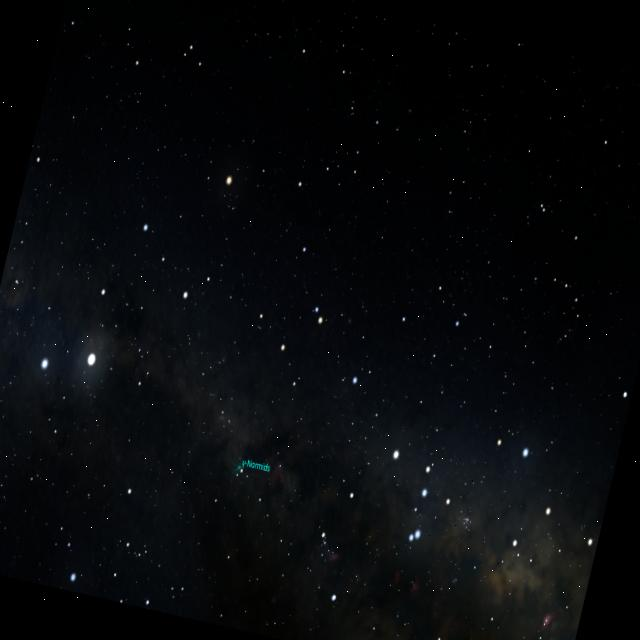Ara: (237, 230, 426, 410)
